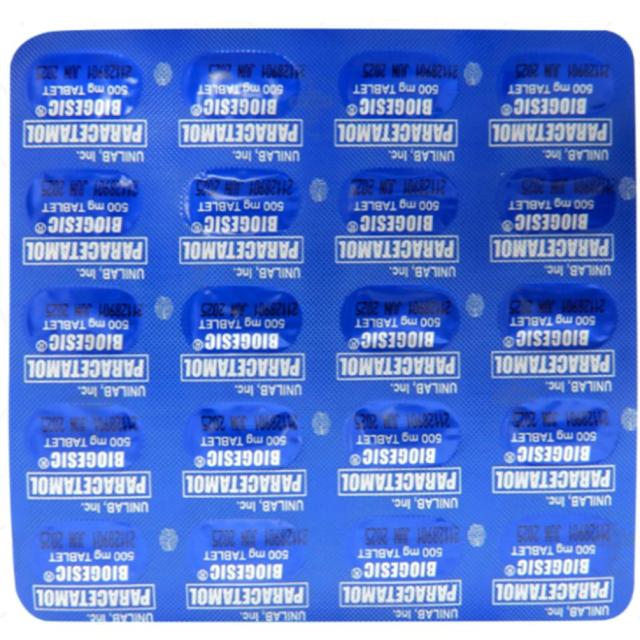blister: (6, 20, 640, 630)
